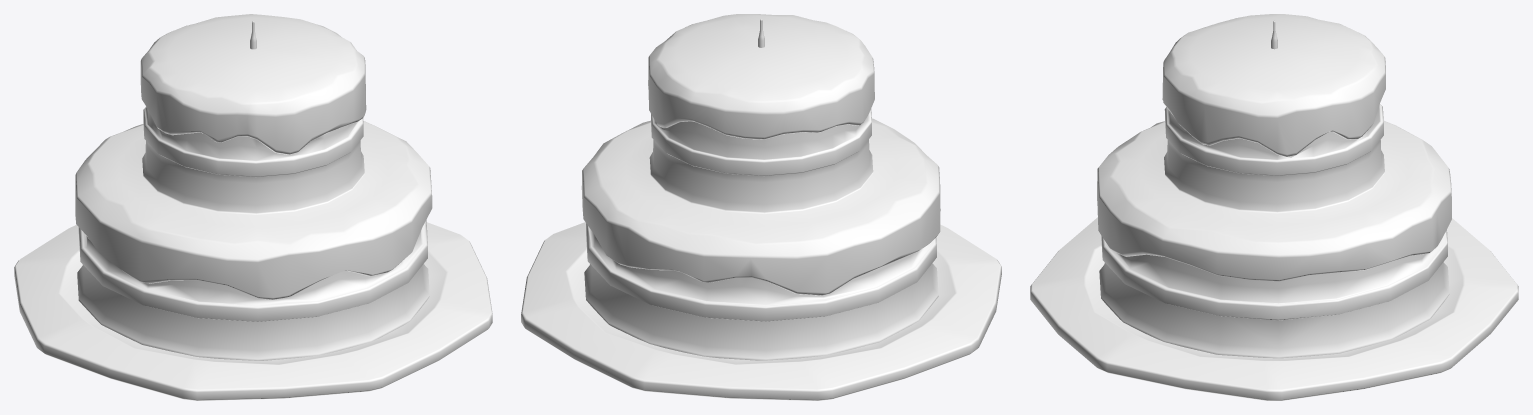
File: PropBirthdayCakeL.glb
3 renders of one model, left to right at view 1: azimuth 30°, elevation 25°; view 2: azimuth 150°, elevation 25°; view 3: azimuth 270°, elevation 25°, orthographic.
Visible parts, largest first — view 1: PropBirthdayCakeL; view 2: PropBirthdayCakeL; view 3: PropBirthdayCakeL.
Boxes of the visible parts, box(x1,y1,x2,y2) form: PropBirthdayCakeL: box(14, 14, 492, 400); PropBirthdayCakeL: box(521, 14, 1001, 400); PropBirthdayCakeL: box(1030, 14, 1518, 400).
Size of the model in its own units: 6.52 by 4.1 by 6.52.
Materials: 1 (1 with a texture image).
